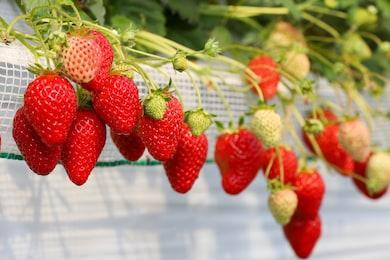Fresa: (21, 68, 80, 149), (9, 103, 67, 178), (59, 103, 109, 189), (158, 118, 209, 199), (139, 86, 186, 166), (89, 72, 143, 139)
